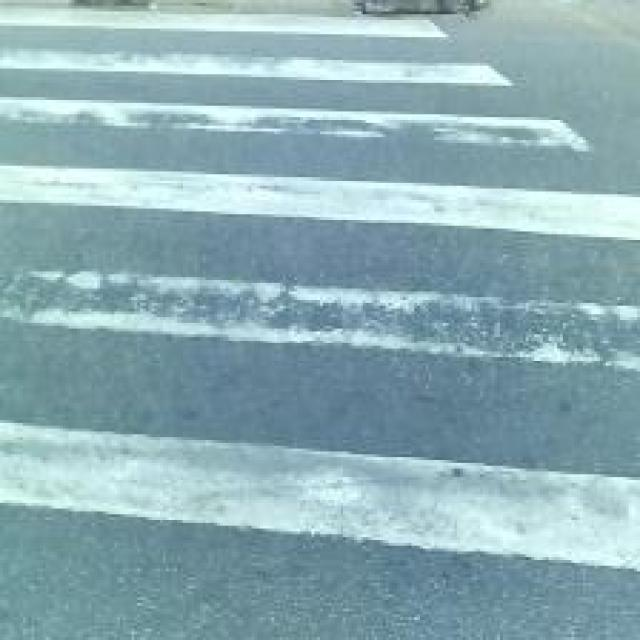walk-crossing: (4, 11, 510, 640)
